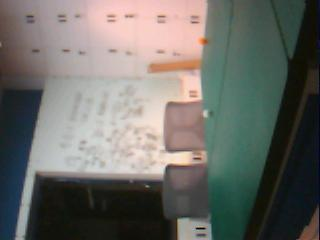oball: (199, 38, 207, 46)
